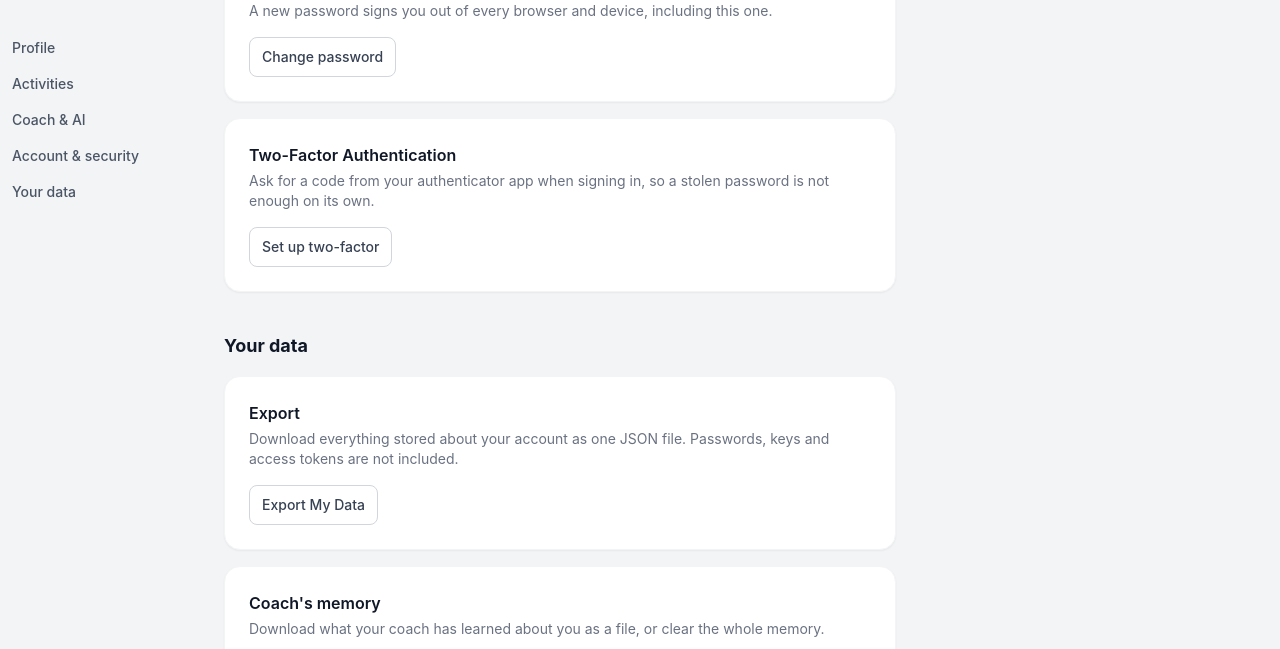
SettingsPage › says so when the account export fails
(page scrolled)
Click the button "Export My Data". click: [314, 505]
box: [249,485,378,525]
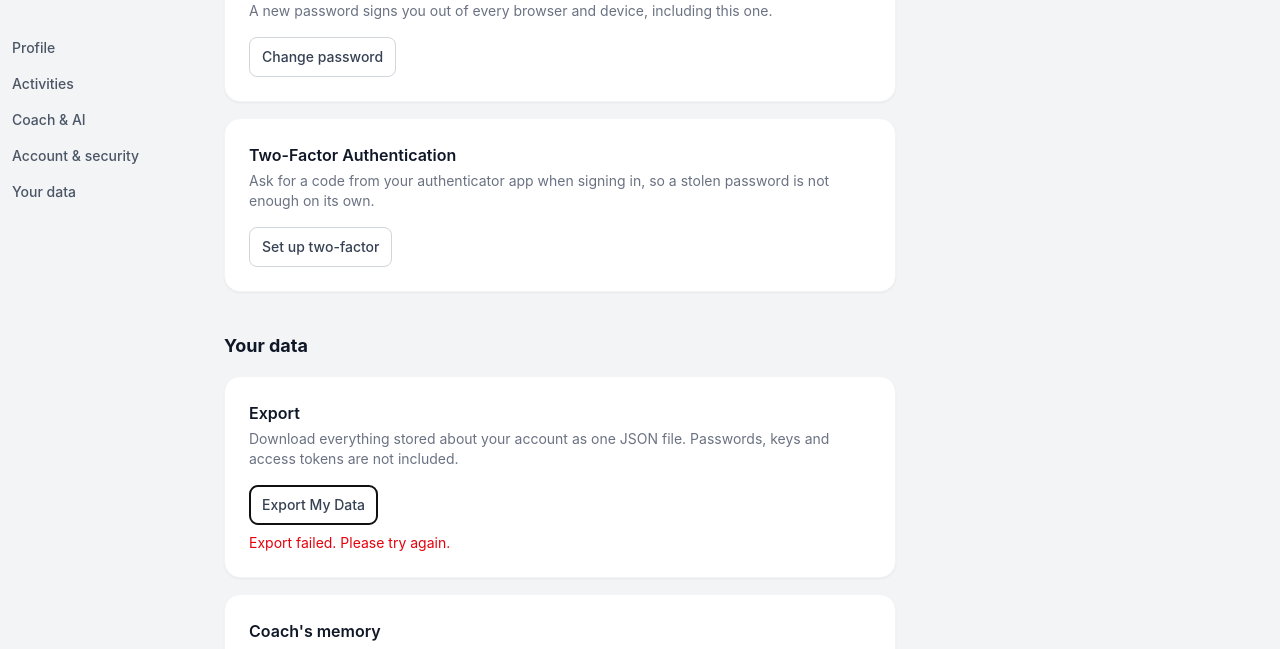
Result: the text "Export failed. Please try again." is shown at [249,534,450,551]
